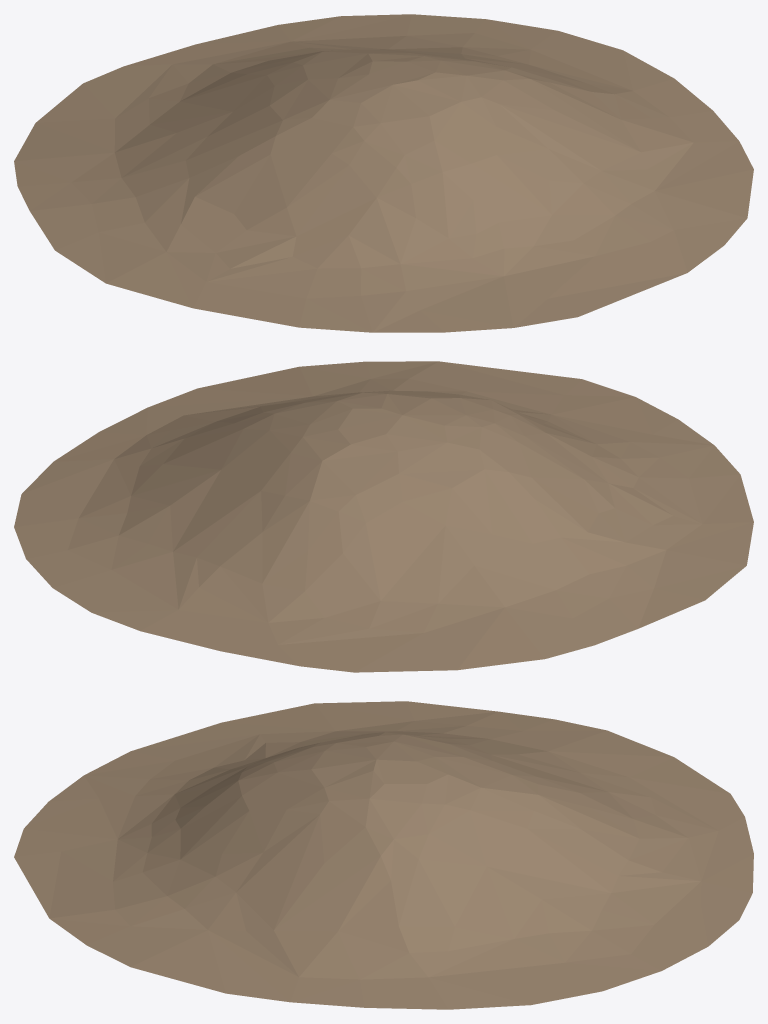
The model's file is SM_Env_Ground_Hill_02.glb.
The picture shows the model from 3 angles, top to bottom: view 1: azimuth 30°, elevation 25°; view 2: azimuth 150°, elevation 25°; view 3: azimuth 270°, elevation 25°; orthographic projection.
Visible parts, largest first — view 1: SM_Env_Ground_Hill_02; view 2: SM_Env_Ground_Hill_02; view 3: SM_Env_Ground_Hill_02.
Part boxes in pixels (bbox=[...]): SM_Env_Ground_Hill_02: bbox=[14, 14, 753, 332]; SM_Env_Ground_Hill_02: bbox=[14, 361, 753, 672]; SM_Env_Ground_Hill_02: bbox=[14, 701, 753, 1009].
Size of the model in its own units: 16.69 by 2.44 by 16.92.
Materials: 1 (1 with a texture image).
